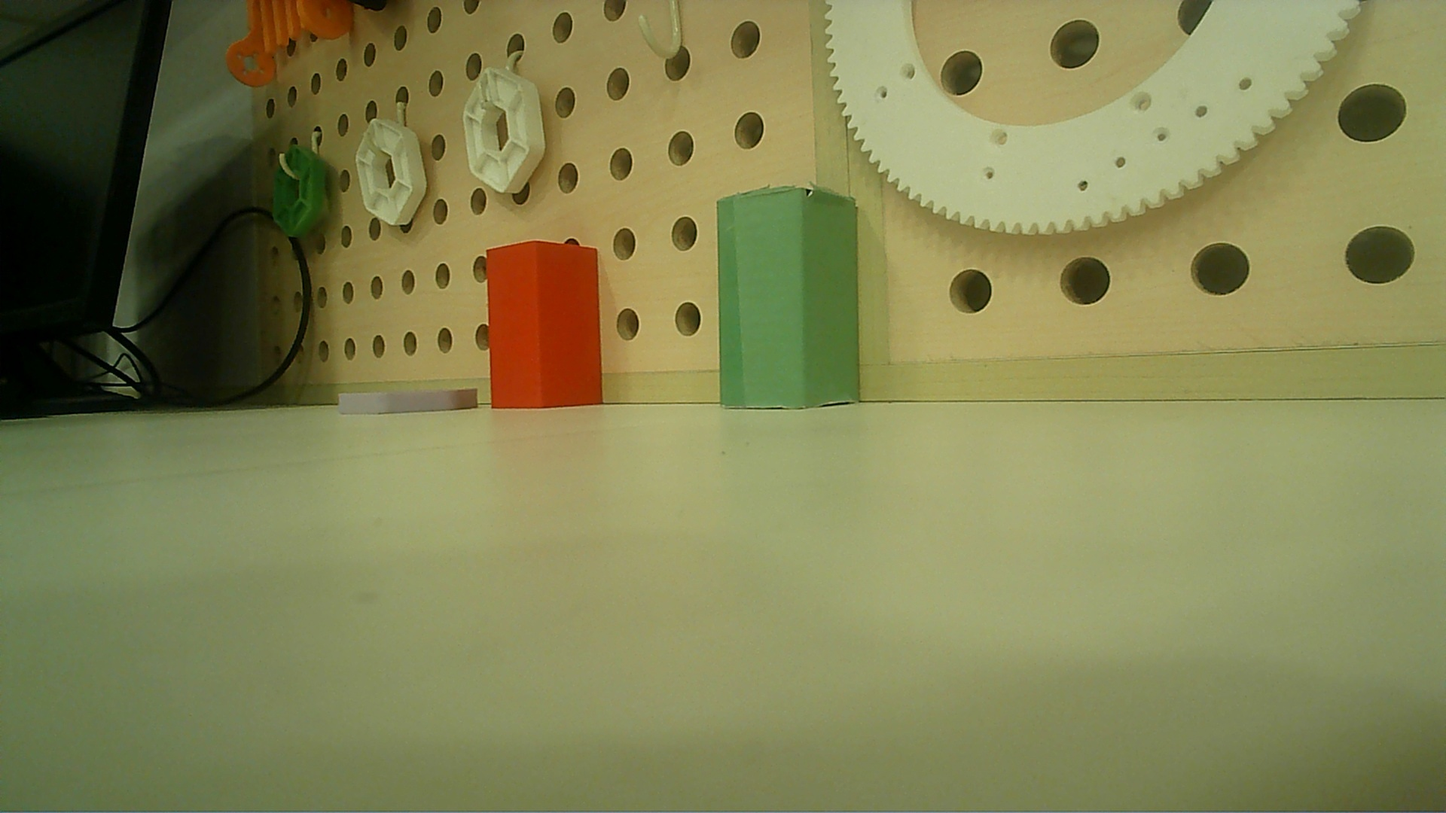green: (713, 182, 860, 422)
